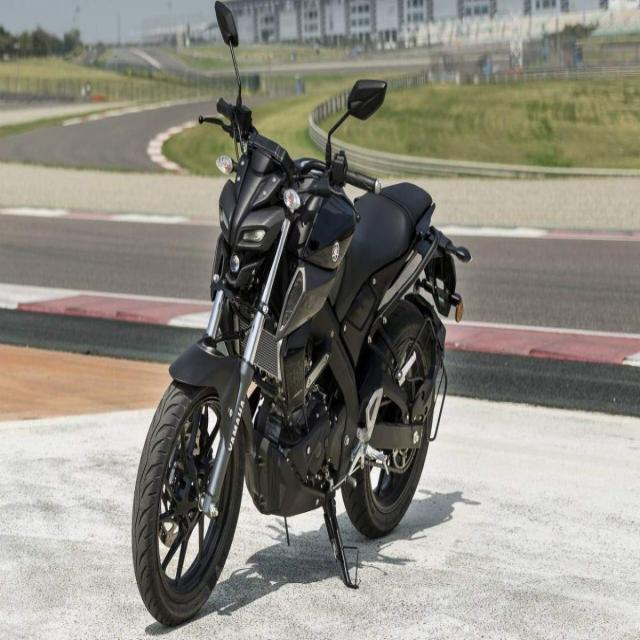Bike: (131, 8, 471, 629)
